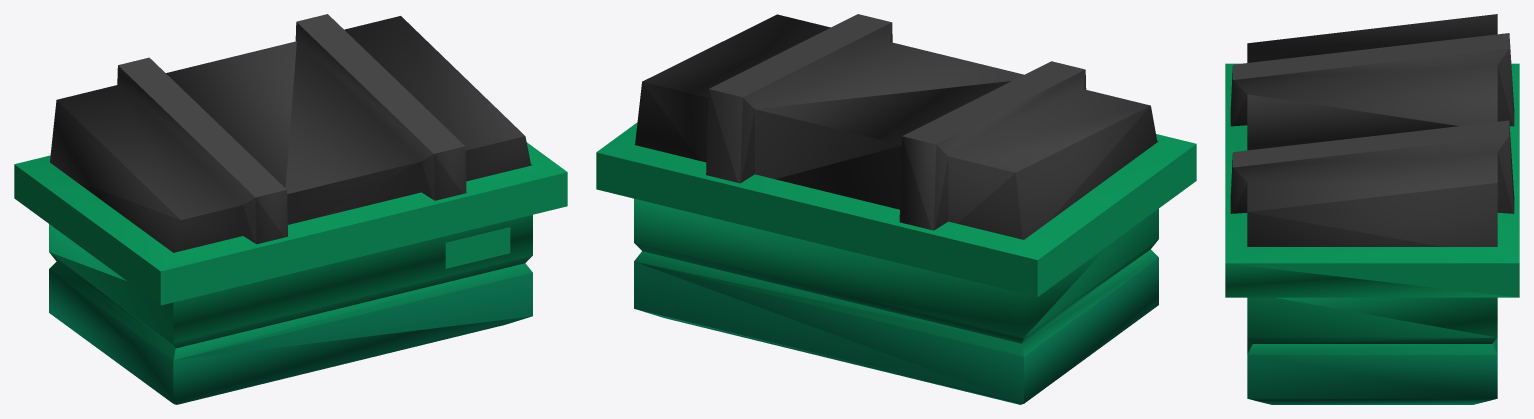
Rendered from dumpster.glb.
3 renders of one model, left to right at view 1: azimuth 30°, elevation 25°; view 2: azimuth 150°, elevation 25°; view 3: azimuth 270°, elevation 25°, orthographic. The views are drawn at different scales.
Parts seen in each view (by area): view 1: dumpster; view 2: dumpster; view 3: dumpster.
Boxes of the visible parts, x1,y1,x2,y2 form: dumpster: (14, 14, 567, 404); dumpster: (596, 14, 1196, 404); dumpster: (1225, 14, 1519, 404).
Bounding box in the file's own units: 2 × 1.12 × 1.25.
